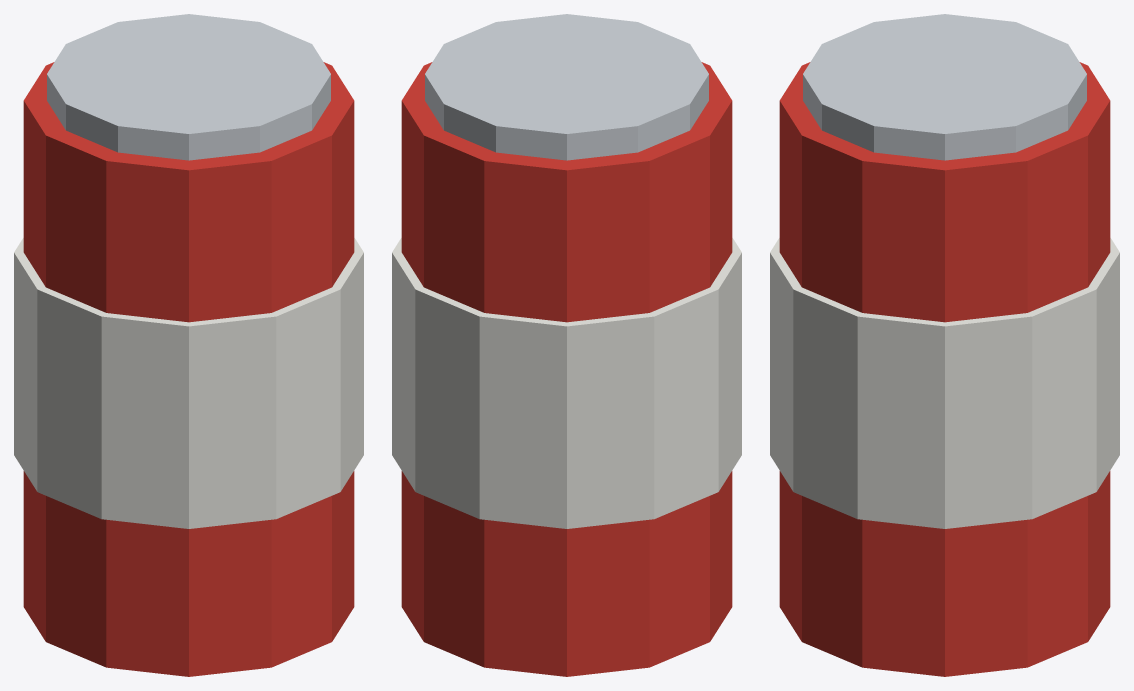
The model's file is can_tomato.glb.
3 views of the same model, side by side, from view 1: azimuth 30°, elevation 25°; view 2: azimuth 150°, elevation 25°; view 3: azimuth 270°, elevation 25° (orthographic).
Parts seen in each view (by area): view 1: can_tomato; view 2: can_tomato; view 3: can_tomato.
Part boxes in pixels (box(x1,y1,x2,y2)): can_tomato: box(14, 14, 363, 676); can_tomato: box(392, 14, 741, 676); can_tomato: box(770, 14, 1119, 676).
Bounding box in the file's own units: 0.072 × 0.121 × 0.072.
Materials: 1 (1 with a texture image).
